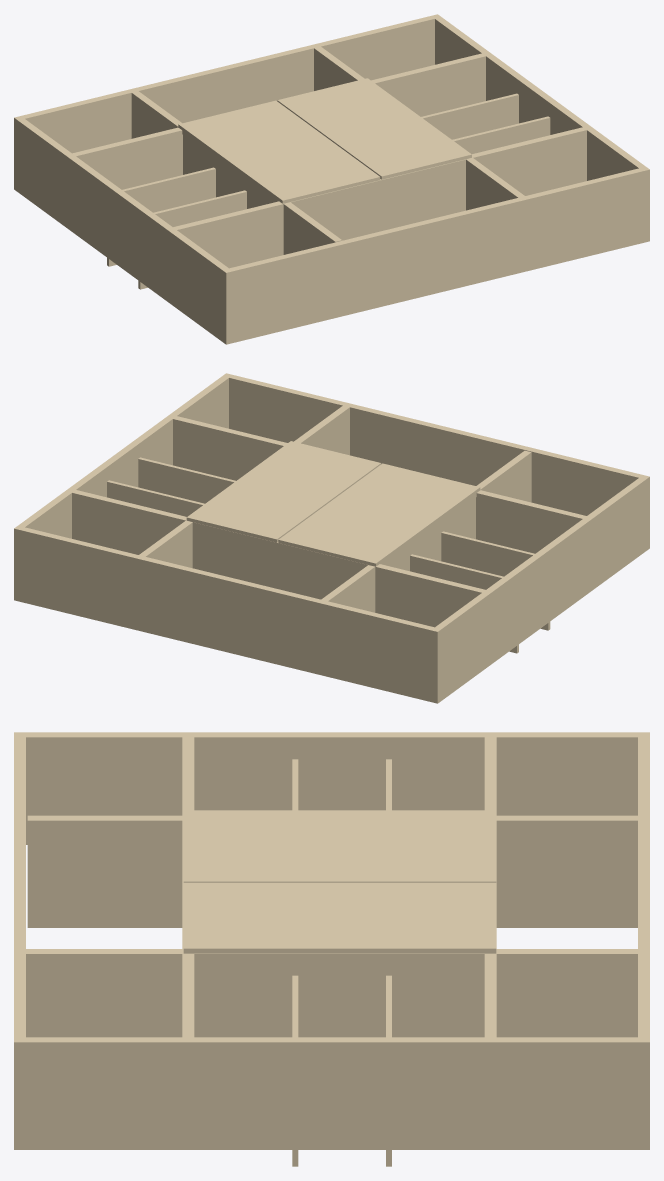
The model's file is shelf.fbx.
3 renders of one model, top to bottom at view 1: azimuth 30°, elevation 25°; view 2: azimuth 150°, elevation 25°; view 3: azimuth 270°, elevation 25°, orthographic. The views are drawn at different scales.
Visible parts, largest first — view 1: Rectangle48, Rectangle52, Rectangle55, Rectangle12, Rectangle54; view 2: Rectangle48, Rectangle12, Rectangle54, Rectangle52, Rectangle55; view 3: Rectangle48.
Boxes of the visible parts, bbox=[...] form: Rectangle48: bbox=[14, 14, 649, 344]; Rectangle52: bbox=[421, 93, 518, 139]; Rectangle55: bbox=[107, 167, 215, 266]; Rectangle12: bbox=[452, 116, 550, 153]; Rectangle54: bbox=[138, 190, 246, 289]; Rectangle48: bbox=[14, 373, 649, 703]; Rectangle12: bbox=[138, 457, 235, 503]; Rectangle54: bbox=[441, 531, 550, 630]; Rectangle52: bbox=[107, 480, 204, 516]; Rectangle55: bbox=[410, 554, 518, 653]; Rectangle48: bbox=[14, 732, 649, 1149].
Size of the model in its own units: 97.28 by 19.65 by 84.38.
